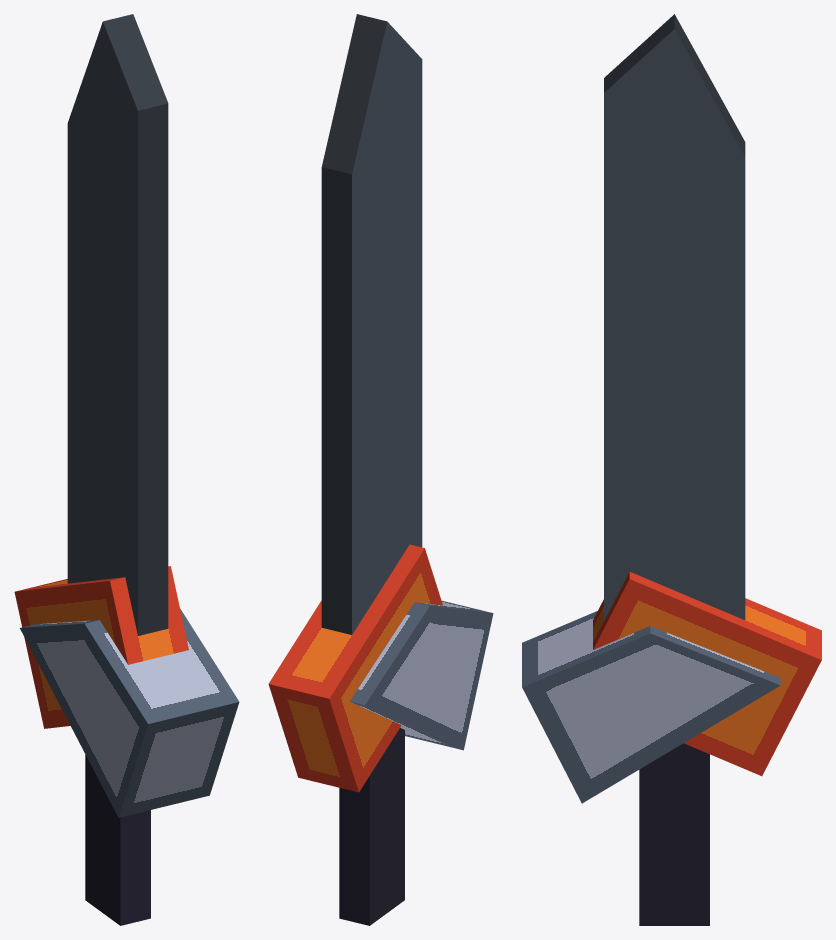
File: beginner.gltf
3 views of the same model, side by side, from view 1: azimuth 30°, elevation 25°; view 2: azimuth 150°, elevation 25°; view 3: azimuth 270°, elevation 25° (orthographic).
Parts seen in each view (by area): view 1: blade, cube (×3); view 2: blade, cube (×3); view 3: blade, cube (×3).
Boxes of the visible parts, left/top/right/bottom form: blade: left=67, top=14, right=168, bottom=635; cube (×3): left=14, top=566, right=239, bottom=925; blade: left=321, top=14, right=422, bottom=634; cube (×3): left=268, top=544, right=493, bottom=925; blade: left=604, top=14, right=745, bottom=620; cube (×3): left=522, top=571, right=821, bottom=925.
Bounding box in the file's own units: 0.0938 × 0.875 × 0.2649.
Materials: 1 (1 with a texture image).
